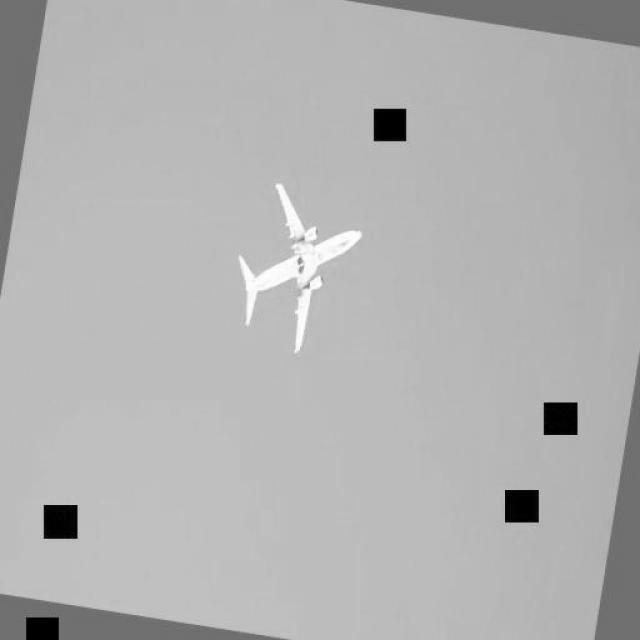aeroplane: (239, 182, 364, 353)
